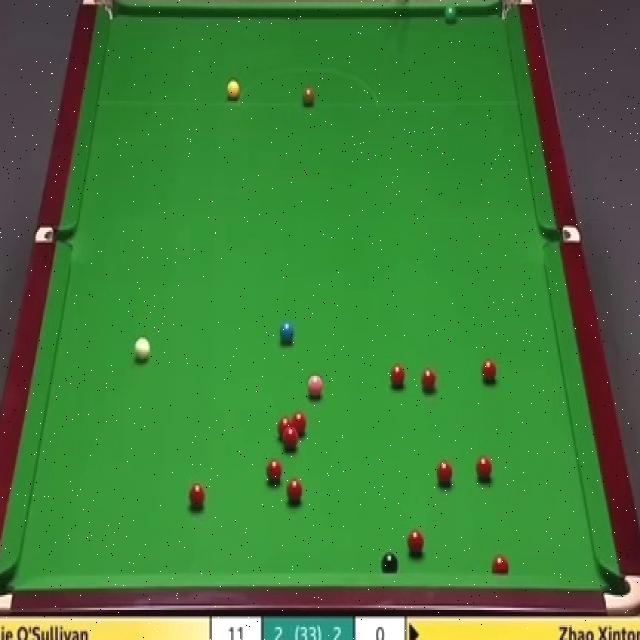black-ball: (382, 551, 398, 574)
blue-ball: (278, 320, 296, 342)
brown-ball: (302, 84, 315, 105)
green-ball: (444, 1, 459, 22)
pink-ball: (307, 375, 324, 401)
red-ball: (188, 480, 207, 514), (406, 530, 426, 559), (286, 474, 305, 504), (436, 460, 456, 488), (262, 460, 284, 485), (389, 361, 406, 390), (476, 455, 494, 482), (419, 369, 438, 393), (277, 416, 292, 443), (481, 359, 496, 385), (292, 412, 307, 437), (491, 554, 510, 573), (284, 431, 300, 452)
white-ball: (133, 335, 153, 363)
yellow-ball: (226, 82, 239, 99)
